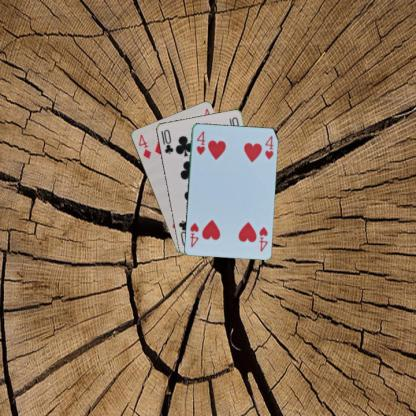10c: (160, 127, 174, 156)
4d: (136, 132, 152, 160)
4h: (194, 128, 206, 156), (257, 224, 268, 252)
